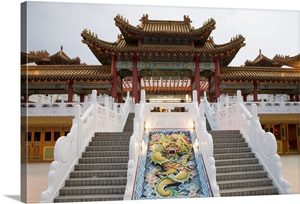Buddhist Temple: (82, 8, 241, 98)
